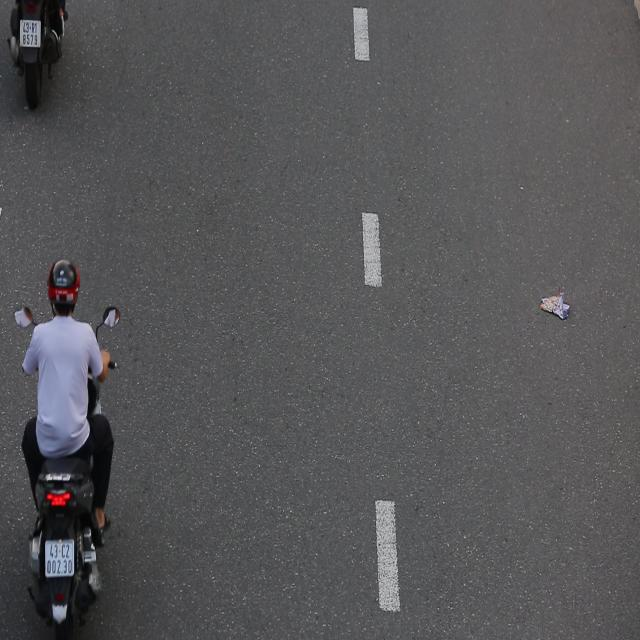motorbike: (4, 245, 145, 640)
